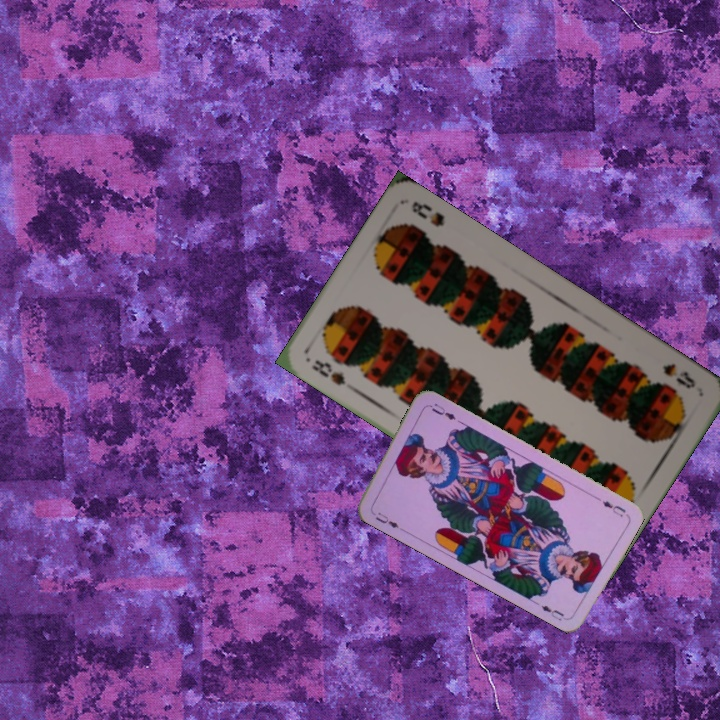EU: (368, 508, 401, 531), (598, 497, 628, 519)
S8: (308, 355, 349, 388), (658, 359, 698, 392)
